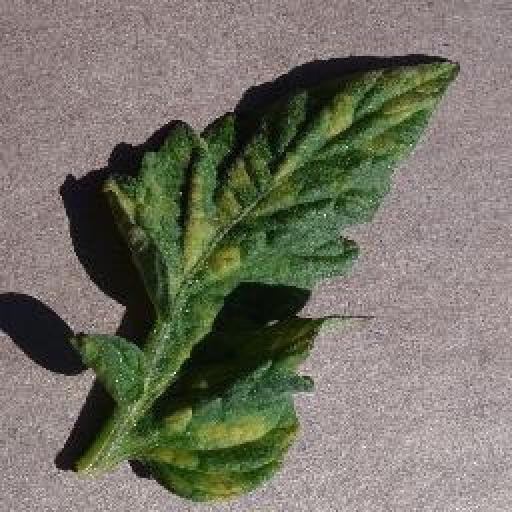disease_tomato: (70, 59, 461, 501)
